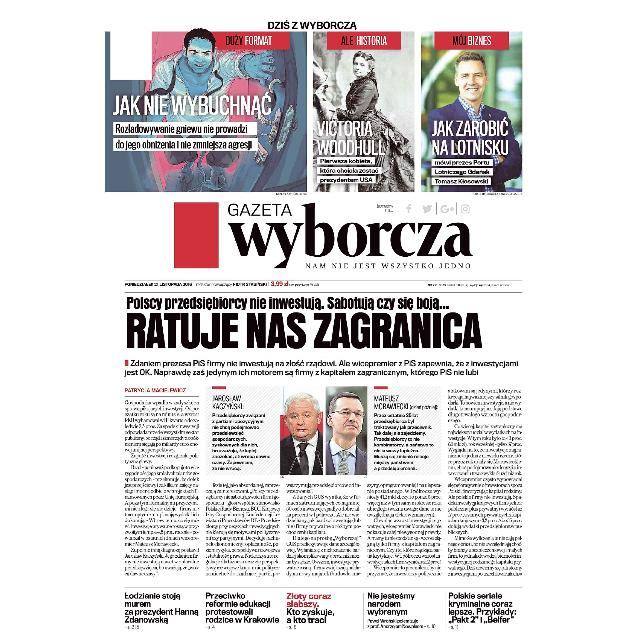article: (124, 296, 526, 582)
